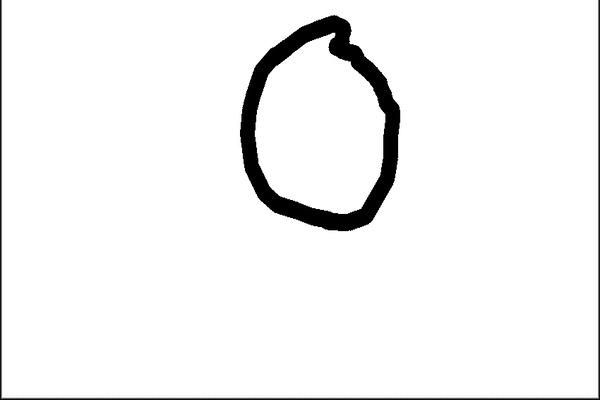O: (226, 11, 415, 239)
